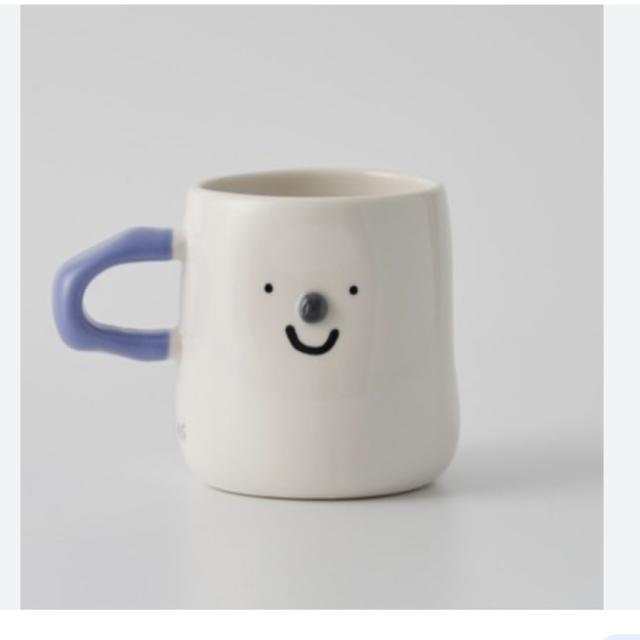recyclable: (32, 154, 521, 514)
